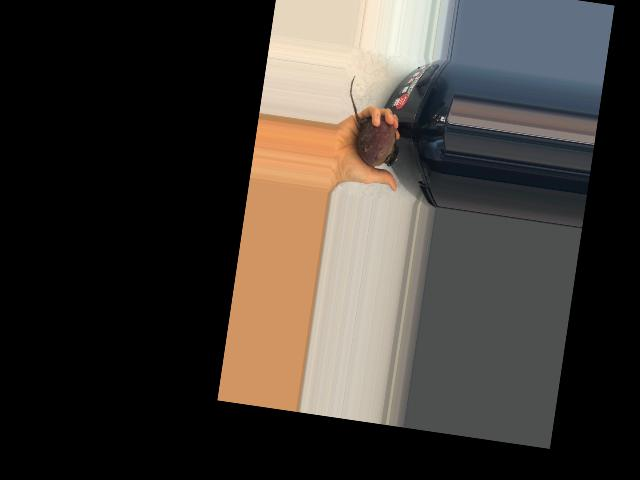beet: (339, 74, 408, 169)
